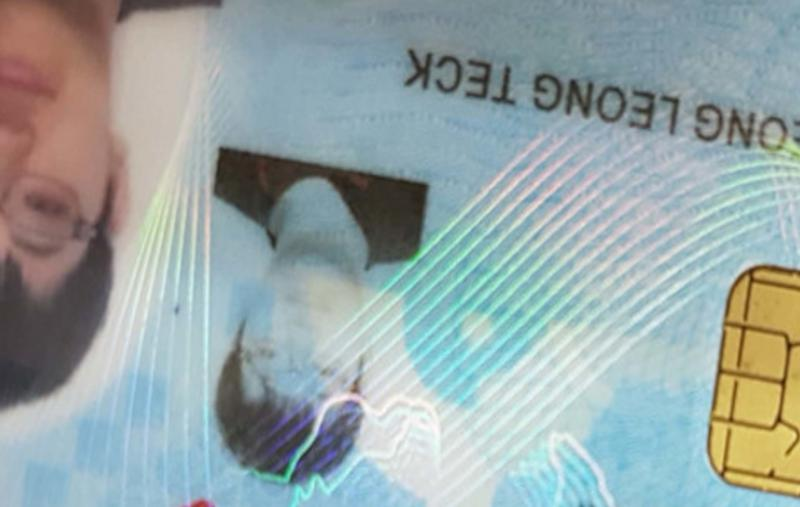hologram: (435, 151, 707, 398)
